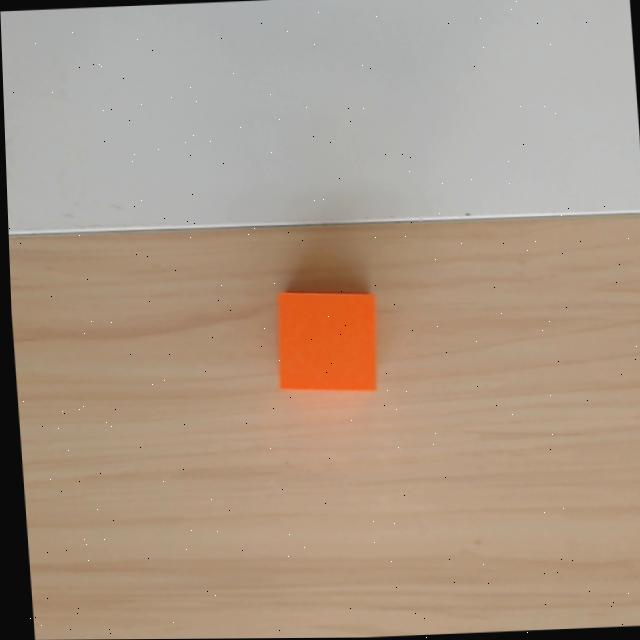Kubus-Jingga-505050: (276, 291, 377, 390)
